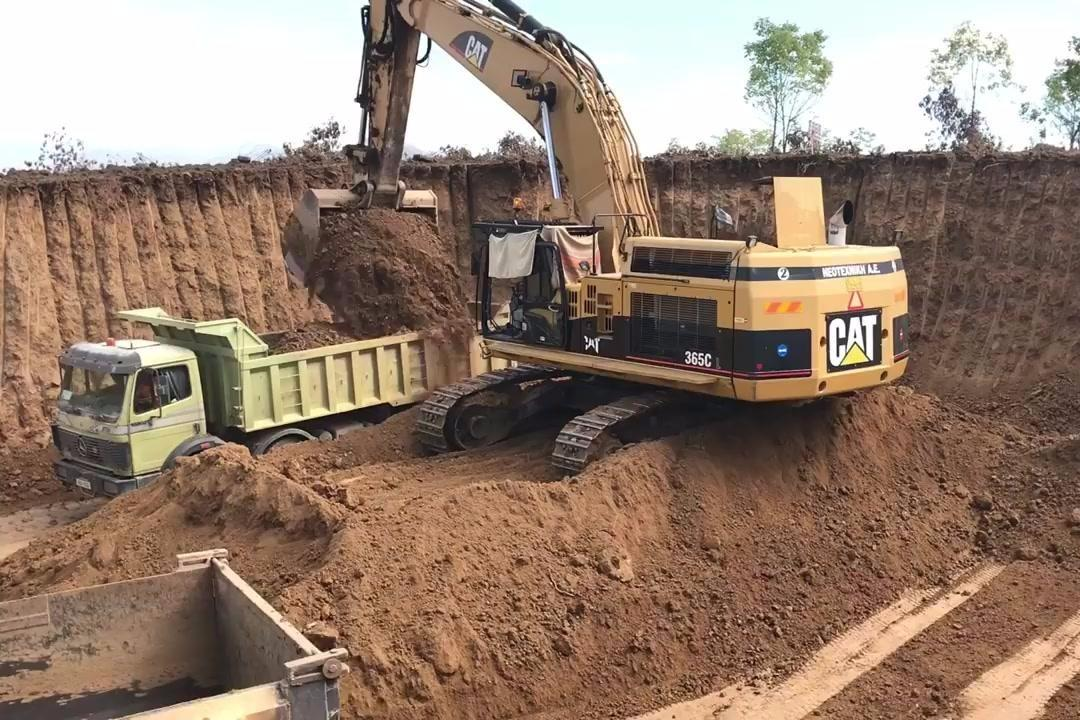excavator: (280, 4, 917, 482)
